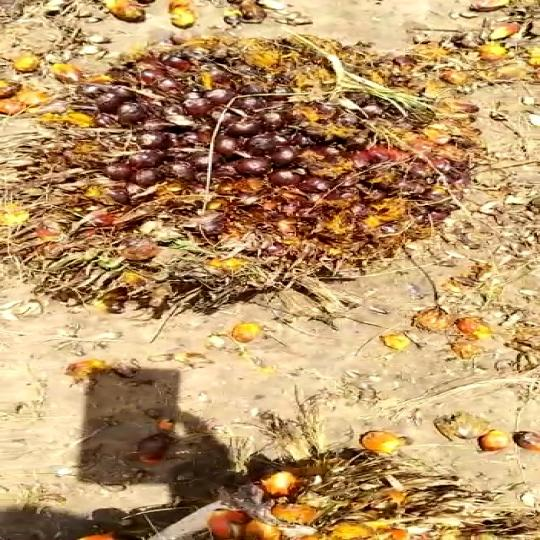masak: (0, 31, 540, 315)
